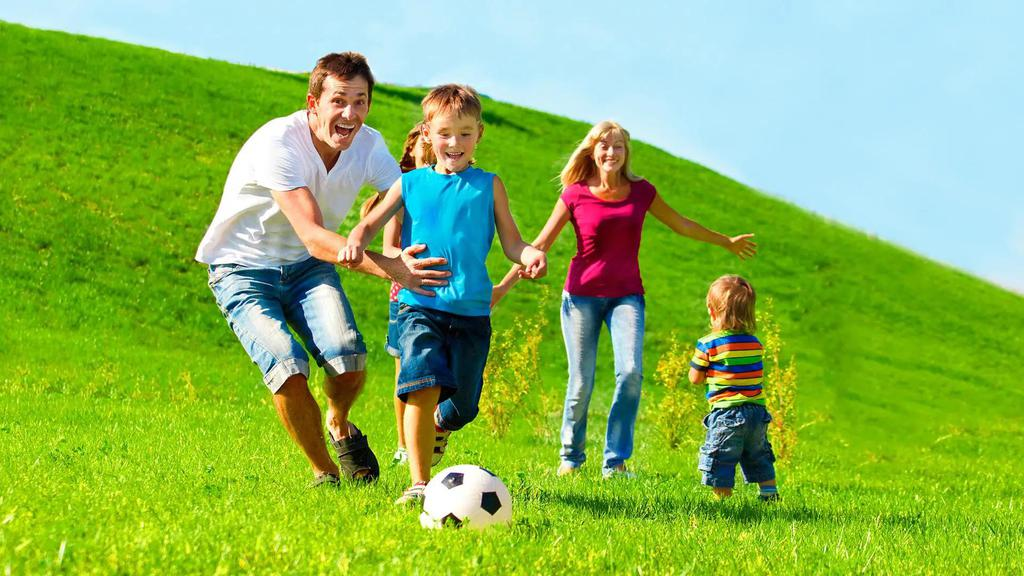child: (678, 271, 796, 507)
